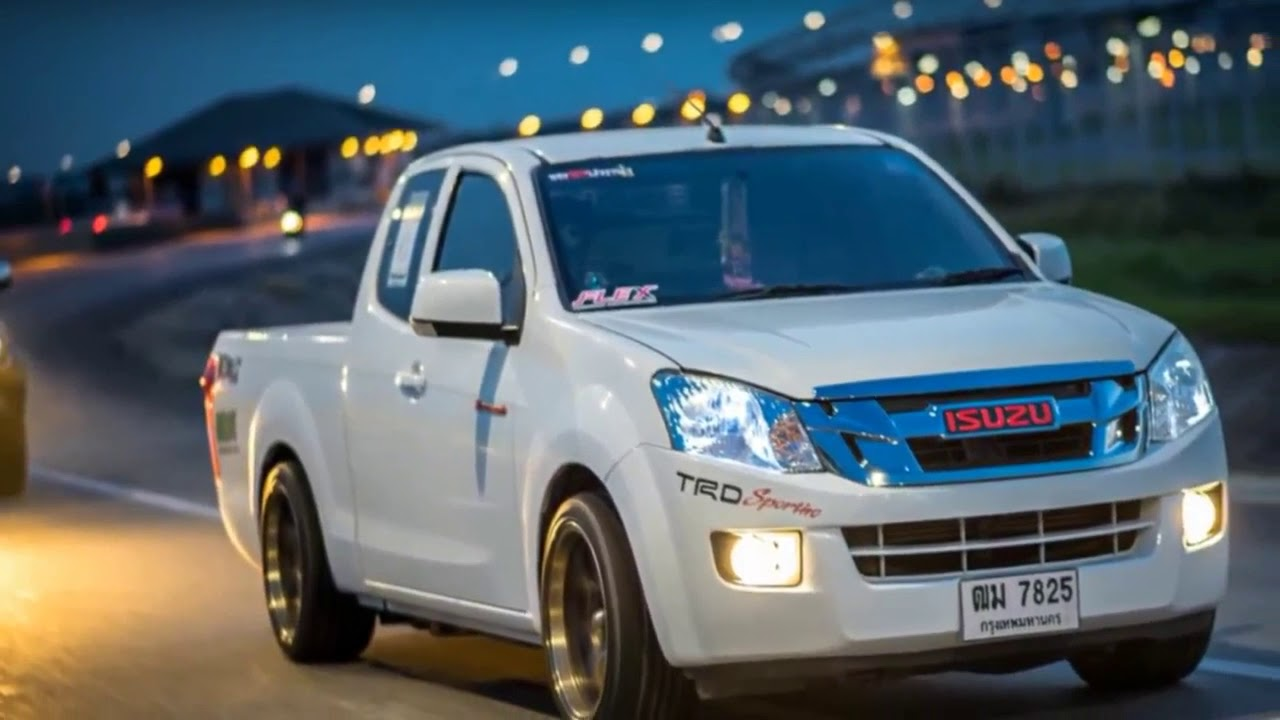pickup: (197, 121, 1231, 714)
